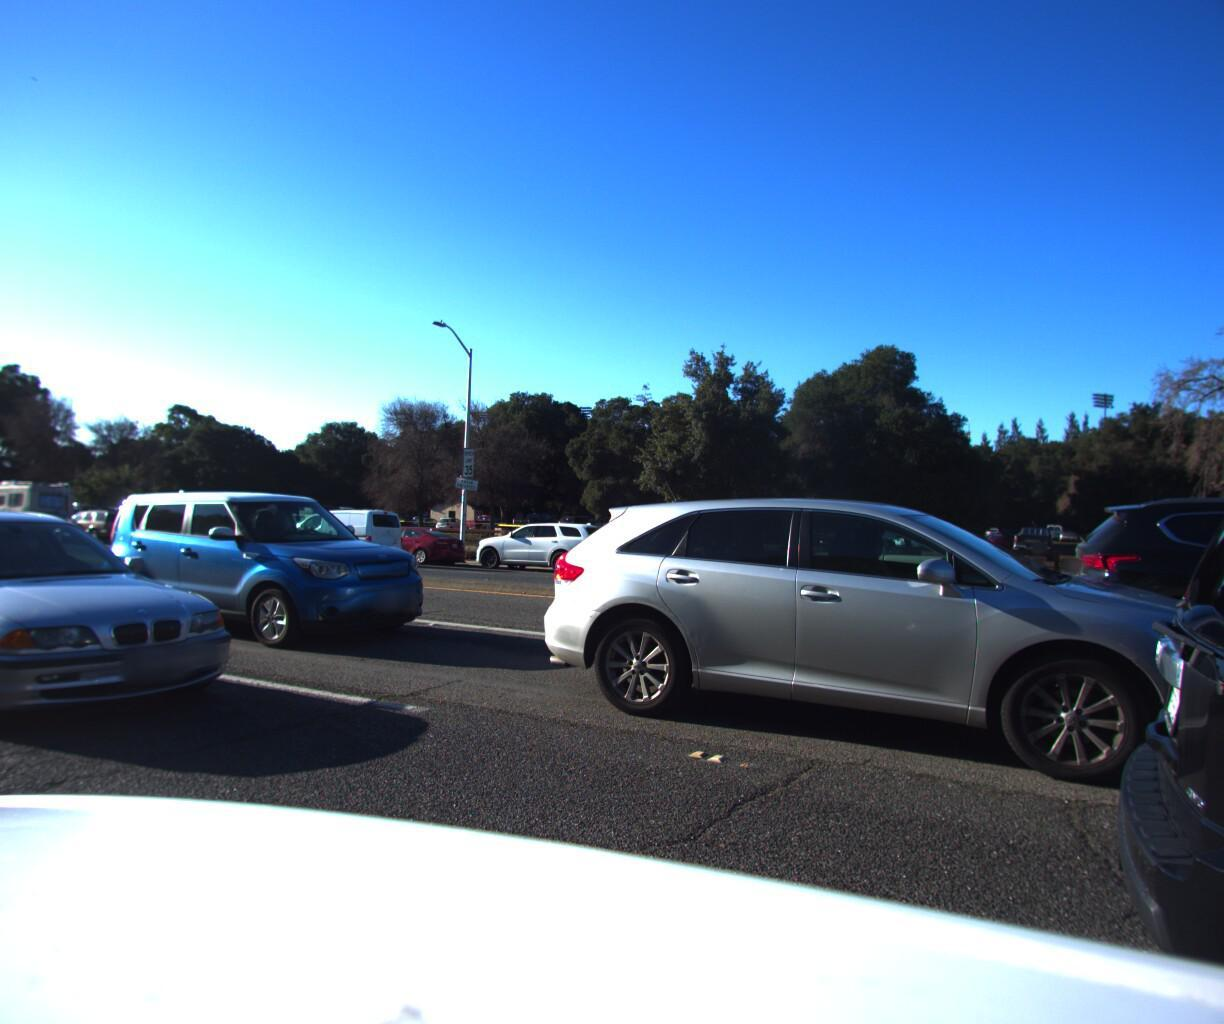car: (541, 481, 1224, 818), (0, 500, 256, 758), (75, 485, 446, 656), (1083, 478, 1224, 740), (472, 511, 622, 567), (270, 501, 409, 560), (233, 497, 357, 553), (353, 517, 474, 560), (51, 503, 144, 539)
other_vehicle: (0, 475, 95, 535)
